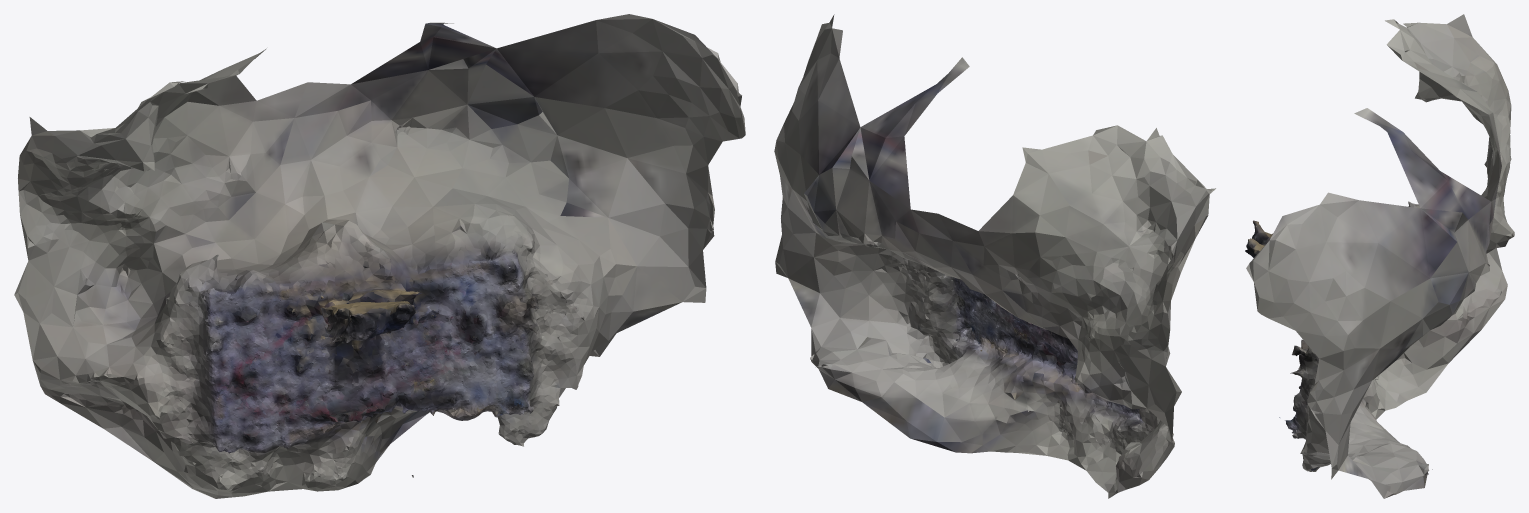
File: texturedMesh.obj
3 renders of one model, left to right at view 1: azimuth 30°, elevation 25°; view 2: azimuth 150°, elevation 25°; view 3: azimuth 270°, elevation 25°, orthographic. The views are drawn at different scales.
Size of the model in its own units: 2.15 by 1.55 by 1.02.
1 material, 1 textured.
